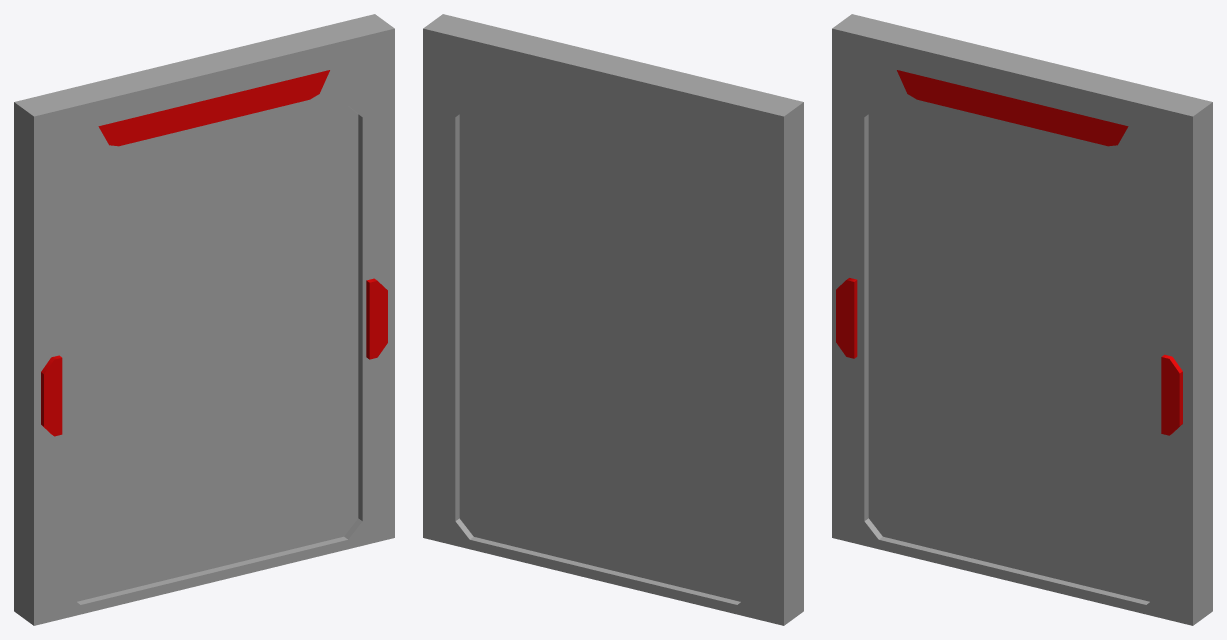
The model's file is Porte basique.fbx.
3 views of the same model, side by side, from view 1: azimuth 30°, elevation 25°; view 2: azimuth 150°, elevation 25°; view 3: azimuth 330°, elevation 25° (orthographic).
Parts seen in each view (by area): view 1: vitre1, porte_bordure; view 2: vitre1, porte_bordure; view 3: vitre1, porte_bordure.
Boxes of the visible parts, bbox=[...] form: vitre1: bbox=[66, 106, 358, 601]; porte_bordure: bbox=[14, 14, 394, 625]; vitre1: bbox=[459, 106, 751, 601]; porte_bordure: bbox=[423, 14, 803, 625]; vitre1: bbox=[868, 106, 1160, 601]; porte_bordure: bbox=[832, 14, 1212, 625].
Size of the model in its own units: 2.23 by 3.01 by 0.2464.
